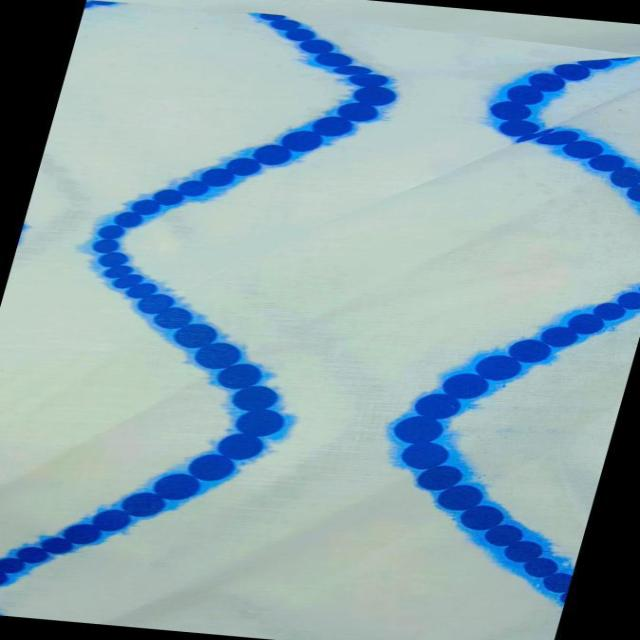color issues: (0, 0, 420, 637), (339, 37, 640, 640)
